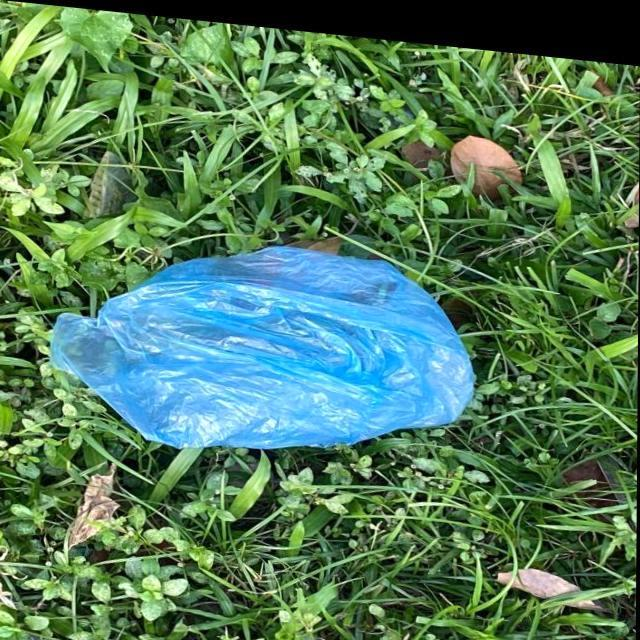polythene: (43, 212, 490, 475)
